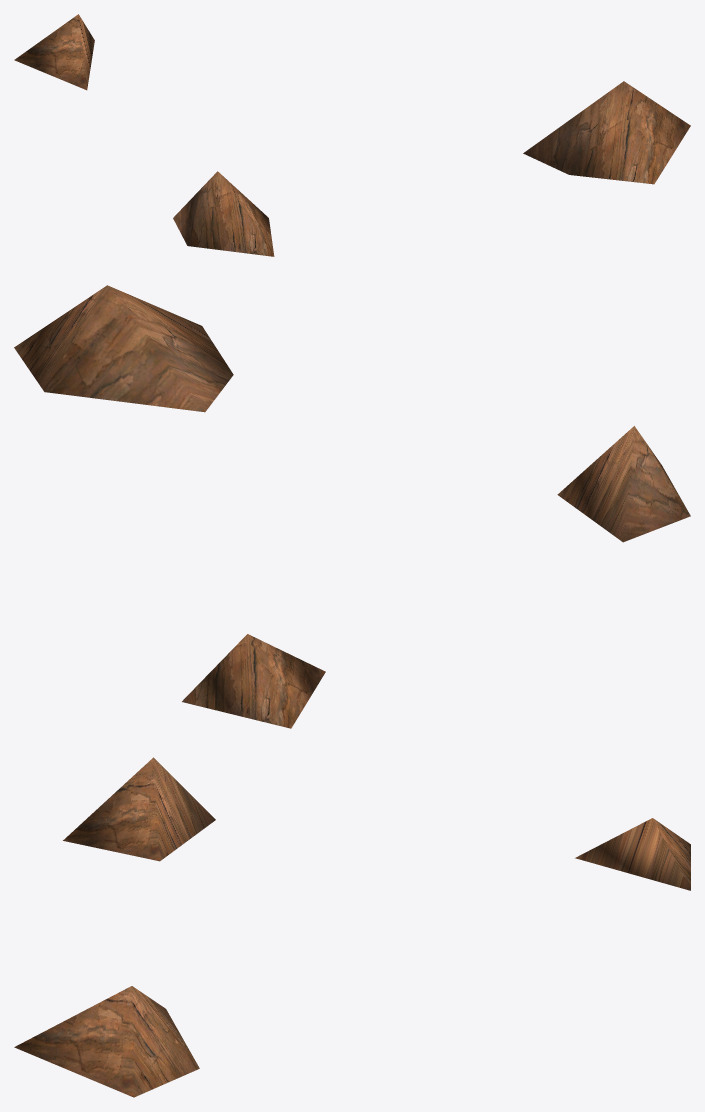
The model's file is rock_tatt_jundland_pebble_a1_l4.fbx.
3 renders of one model, top to bottom at view 1: azimuth 30°, elevation 25°; view 2: azimuth 150°, elevation 25°; view 3: azimuth 270°, elevation 25°, orthographic. The views are drawn at different scales.
Parts seen in each view (by area): view 1: mesh_node; view 2: mesh_node; view 3: mesh_node.
Boxes of the visible parts, left/top/right/bottom form: mesh_node: left=14, top=14, right=690, bottom=256; mesh_node: left=14, top=285, right=690, bottom=728; mesh_node: left=14, top=757, right=690, bottom=1097.
Bounding box in the file's own units: 1.21 × 0.143 × 1.2.
